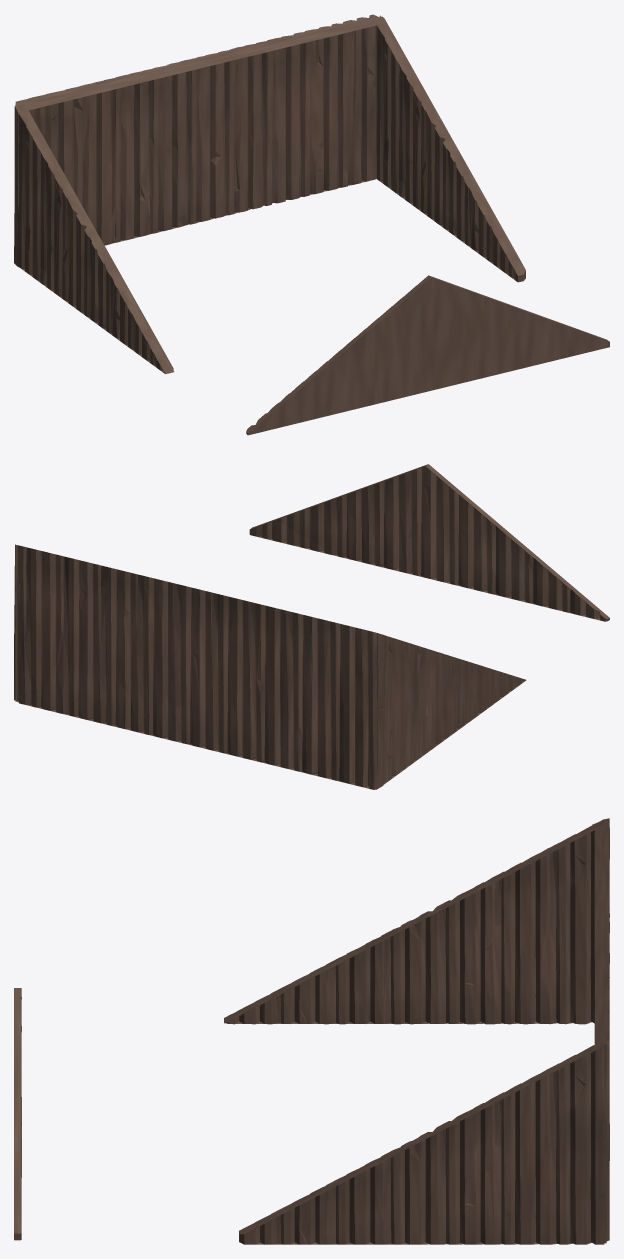
The model's file is roof_room_walls.fbx.
3 renders of one model, top to bottom at view 1: azimuth 30°, elevation 25°; view 2: azimuth 150°, elevation 25°; view 3: azimuth 270°, elevation 25°, orthographic. The views are drawn at different scales.
Parts seen in each view (by area): view 1: Walls.003; view 2: Walls.003; view 3: Walls.003.
Boxes of the visible parts, x1=… form: Walls.003: x1=14, y1=14, x2=609, y2=435; Walls.003: x1=14, y1=464, x2=609, y2=789; Walls.003: x1=14, y1=818, x2=609, y2=1244.
Bounding box in the file's own units: 1085 × 449 × 1201.
1 material, 1 textured.
